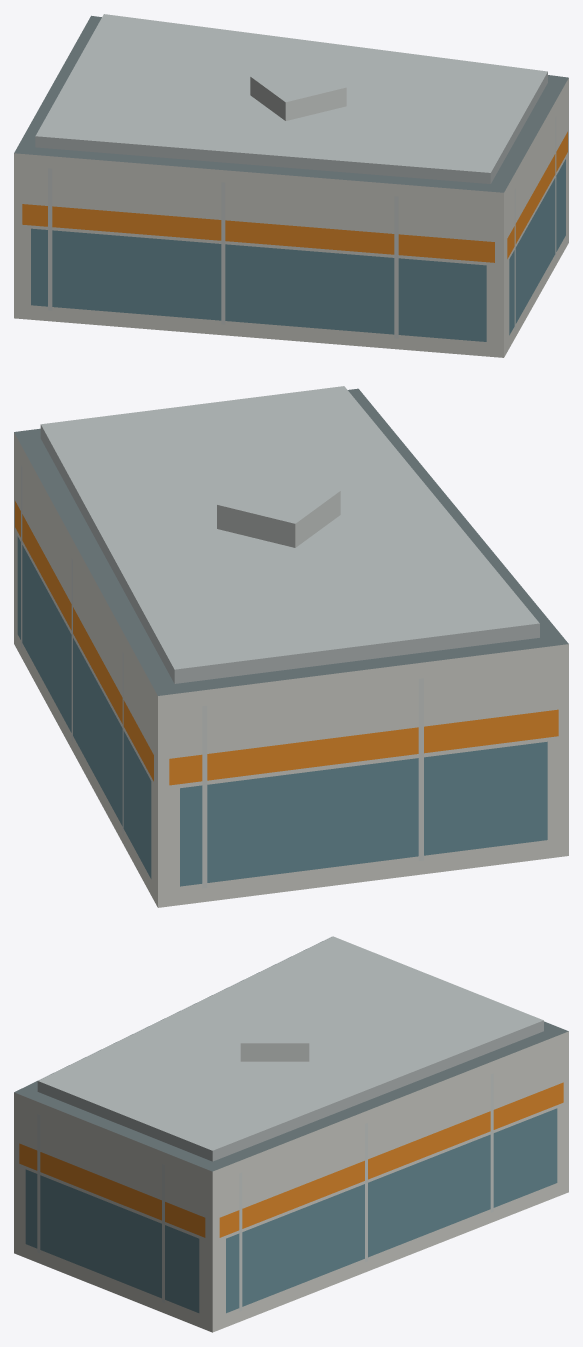
3 renders of one model, top to bottom at view 1: azimuth 30°, elevation 25°; view 2: azimuth 150°, elevation 25°; view 3: azimuth 270°, elevation 25°, orthographic. The views are drawn at different scales.
Parts seen in each view (by area): view 1: nakau-hanmichibashi; view 2: nakau-hanmichibashi; view 3: nakau-hanmichibashi.
Boxes of the visible parts, left/top/right/bottom form: nakau-hanmichibashi: left=14, top=14, right=568, bottom=357; nakau-hanmichibashi: left=14, top=386, right=568, bottom=907; nakau-hanmichibashi: left=14, top=936, right=568, bottom=1332.
Size of the model in its own units: 16.18 by 6.12 by 16.15.
